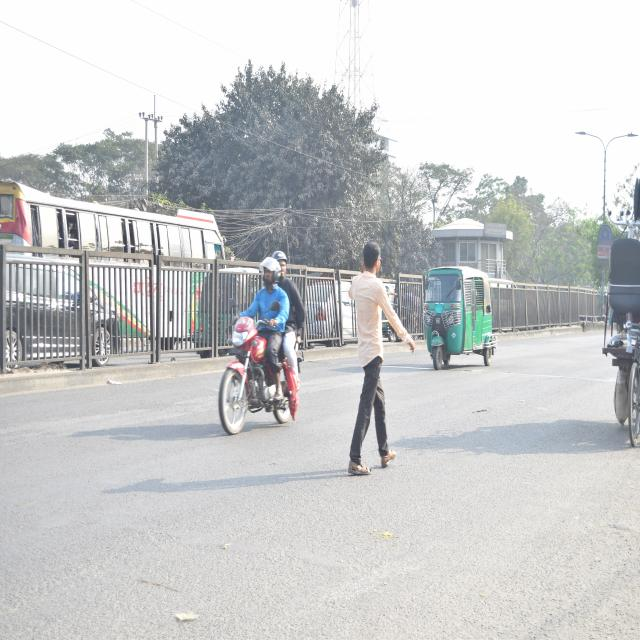bus: (3, 170, 217, 326)
microbus: (0, 255, 118, 381)
motorbike: (214, 319, 306, 447)
